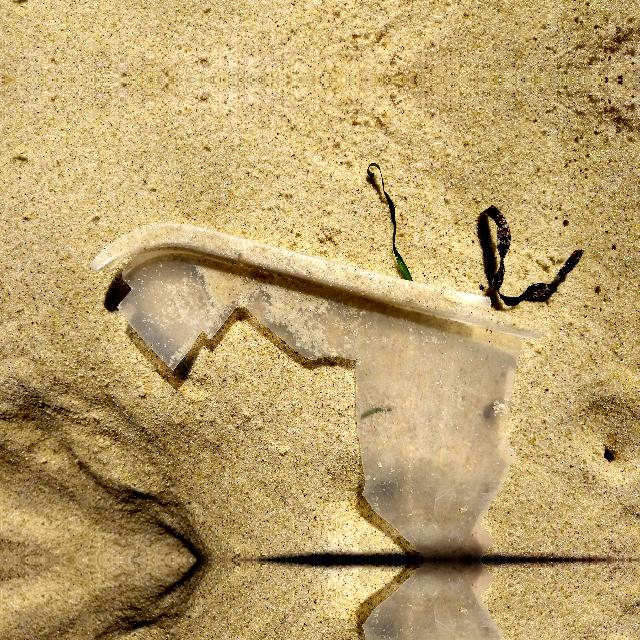Plastic: (72, 208, 540, 560), (71, 560, 540, 640)
